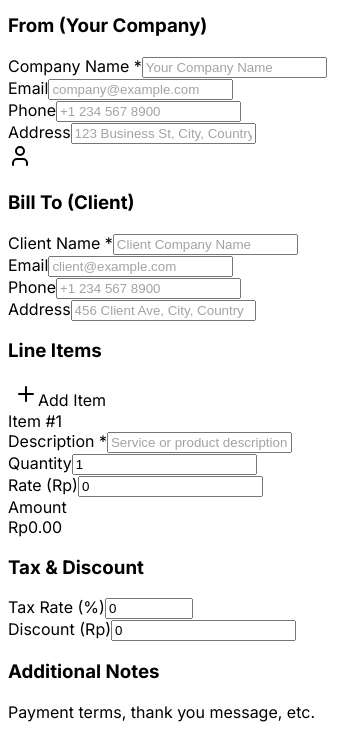
Test: InvoiceGeneratorPage › allows adding line items
The image size is (344, 738).
(page scrolled)
Click the button "Add Item". click: coordinates (60, 396)
box: [8, 381, 112, 411]
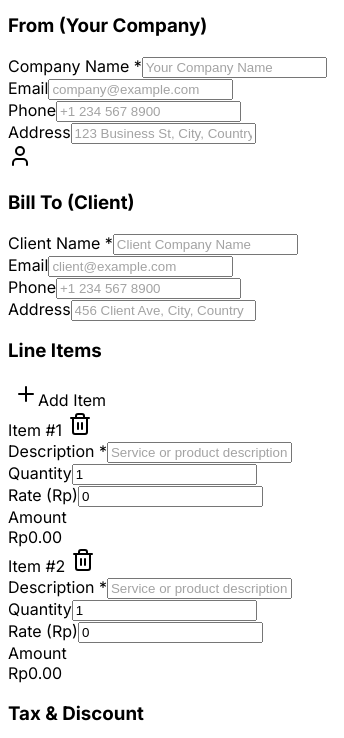
expect the text "Item #2" is shown: met, box [8, 556, 65, 576]
